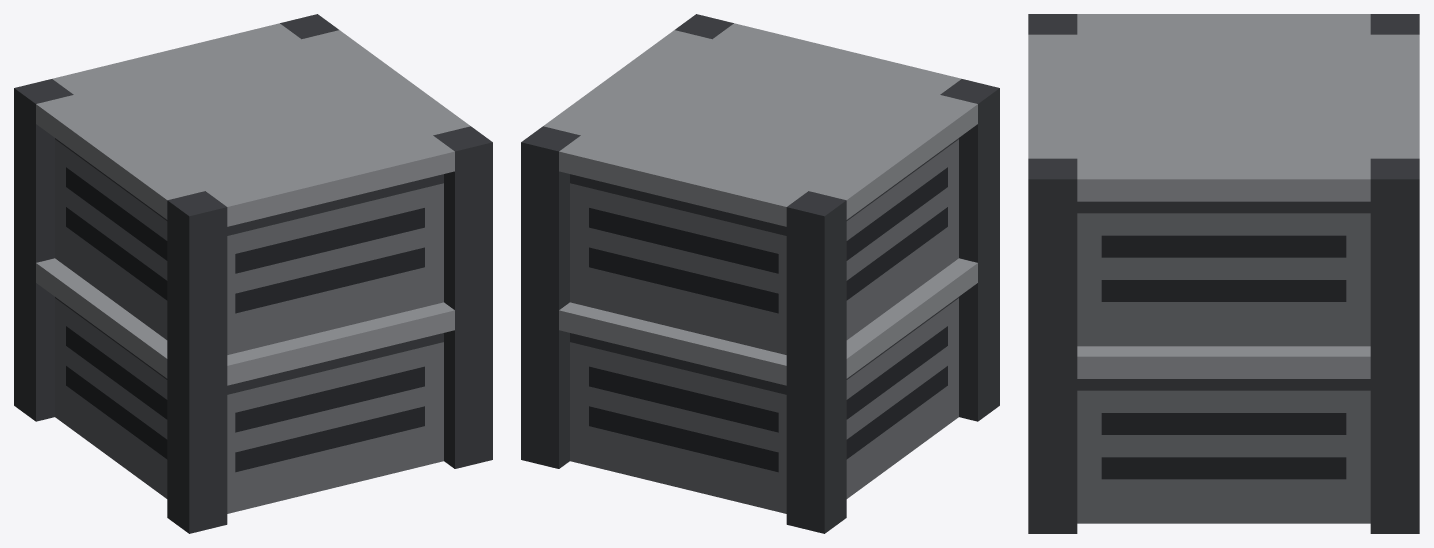
Rendered from Shaft_2x2_Banded.obj.
3 views of the same model, side by side, from view 1: azimuth 30°, elevation 25°; view 2: azimuth 150°, elevation 25°; view 3: azimuth 270°, elevation 25° (orthographic). The views are drawn at different scales.
Visible parts, largest first — view 1: Shaft_2x2_Banded; view 2: Shaft_2x2_Banded; view 3: Shaft_2x2_Banded.
Part boxes in pixels (left/top/right/bottom): Shaft_2x2_Banded: left=14, top=14, right=492, bottom=533; Shaft_2x2_Banded: left=521, top=14, right=999, bottom=533; Shaft_2x2_Banded: left=1028, top=14, right=1419, bottom=533.
Bounding box in the file's own units: 8 × 8 × 8.
Materials: 1 (1 with a texture image).
